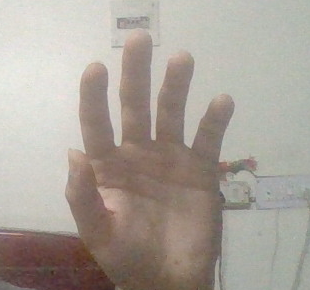move: (55, 25, 237, 280)
